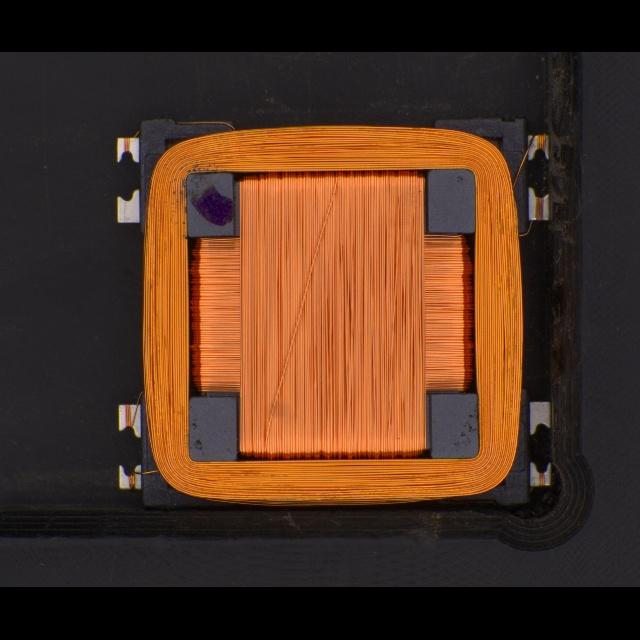Winding_Z: (138, 120, 526, 507)
